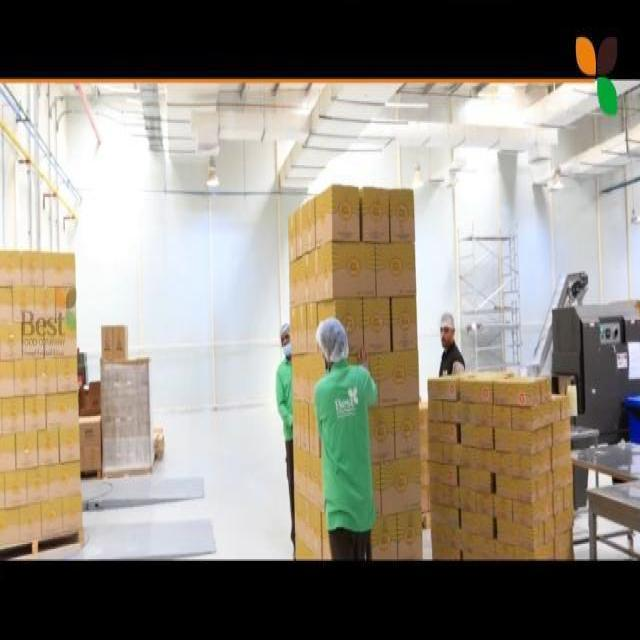bare_hand: (355, 342, 376, 376)
